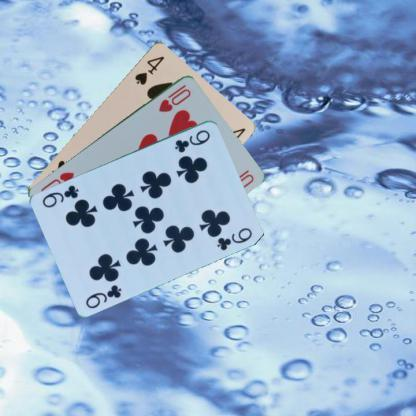10h: (156, 82, 192, 113)
4s: (132, 52, 166, 86)
9c: (83, 281, 123, 310), (172, 127, 212, 154)
